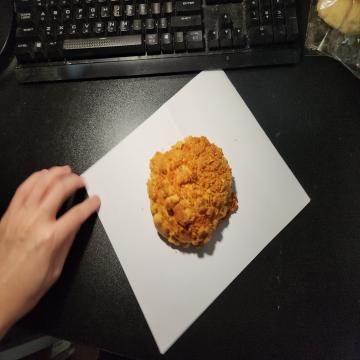soboru_bread: (150, 134, 234, 254)
